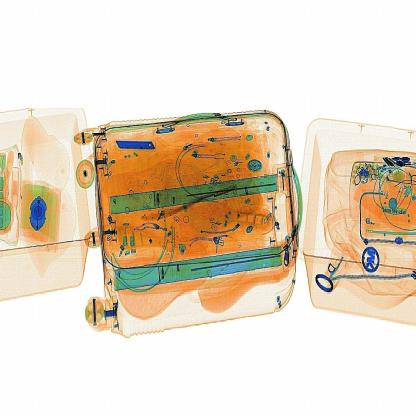pliers: (112, 136, 164, 164)
